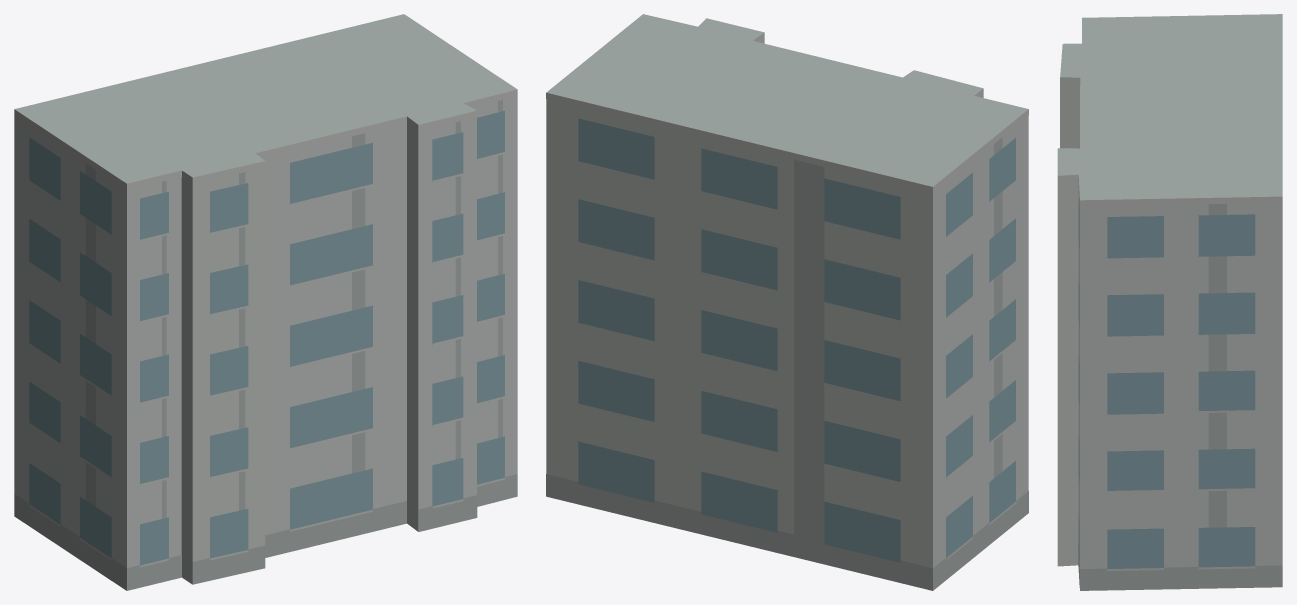
Rendered from survey-upis-32460077.glb.
3 views of the same model, side by side, from view 1: azimuth 30°, elevation 25°; view 2: azimuth 150°, elevation 25°; view 3: azimuth 270°, elevation 25° (orthographic). The views are drawn at different scales.
Parts seen in each view (by area): view 1: survey-upis-32460077.tmp; view 2: survey-upis-32460077.tmp; view 3: survey-upis-32460077.tmp.
Part boxes in pixels (left/top/right/bottom): survey-upis-32460077.tmp: left=14, top=14, right=517, bottom=590; survey-upis-32460077.tmp: left=546, top=14, right=1028, bottom=590; survey-upis-32460077.tmp: left=1057, top=14, right=1282, bottom=590.
Size of the model in its own units: 15.6 by 15.25 by 7.98.
